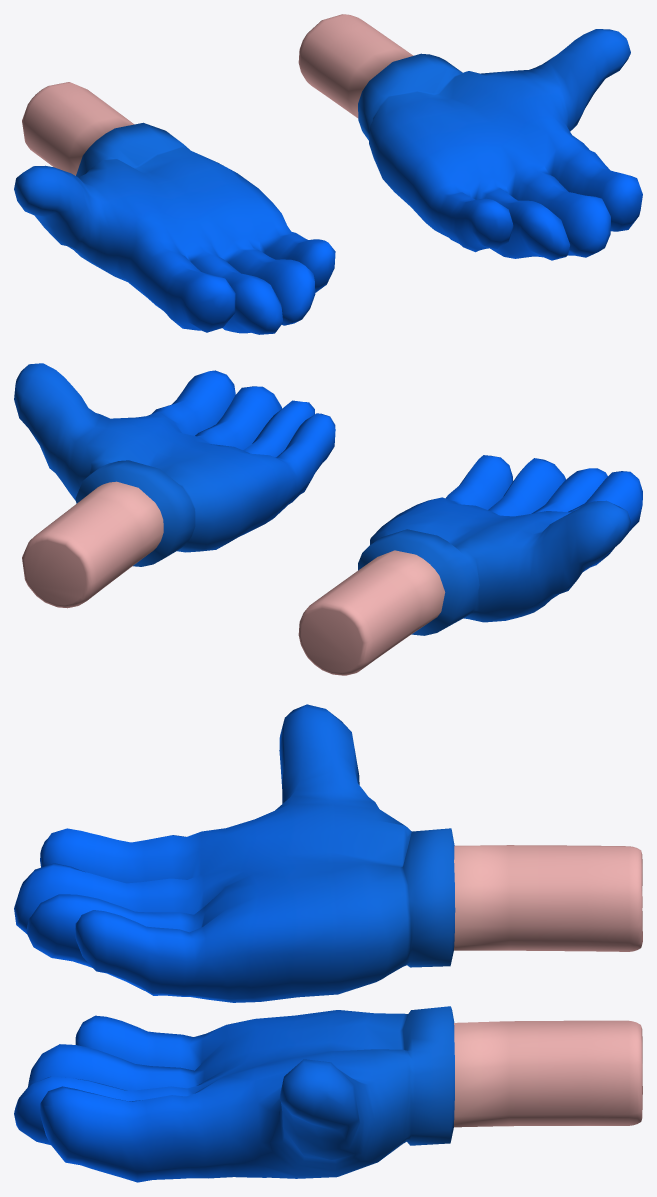
Rendered from hand.fbx.
3 views of the same model, one above another, from view 1: azimuth 30°, elevation 25°; view 2: azimuth 150°, elevation 25°; view 3: azimuth 270°, elevation 25° (orthographic). The views are drawn at different scales.
Visible parts, largest first — view 1: hand.left, hand.left.002; view 2: hand.left, hand.left.002; view 3: hand.left.002, hand.left.
Part boxes in pixels (bbox=[...]): hand.left: bbox=[298, 14, 642, 260]; hand.left.002: bbox=[14, 82, 335, 334]; hand.left: bbox=[14, 363, 335, 608]; hand.left.002: bbox=[298, 455, 642, 675]; hand.left.002: bbox=[14, 704, 642, 1002]; hand.left: bbox=[14, 1006, 642, 1182].
Size of the model in its own units: 379 by 88.23 by 265.
